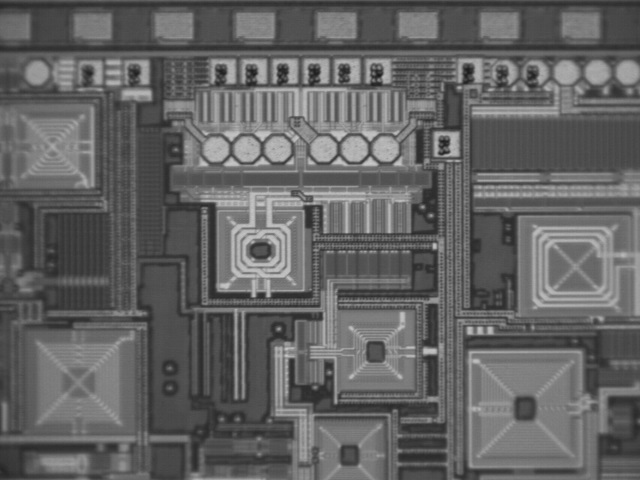over: (74, 58, 104, 91), (121, 56, 151, 89), (207, 54, 237, 87), (238, 54, 268, 87), (269, 54, 299, 87), (300, 54, 330, 87), (331, 54, 361, 87), (360, 54, 390, 87), (454, 53, 484, 86), (490, 53, 520, 86), (520, 54, 550, 87), (432, 126, 462, 159)
